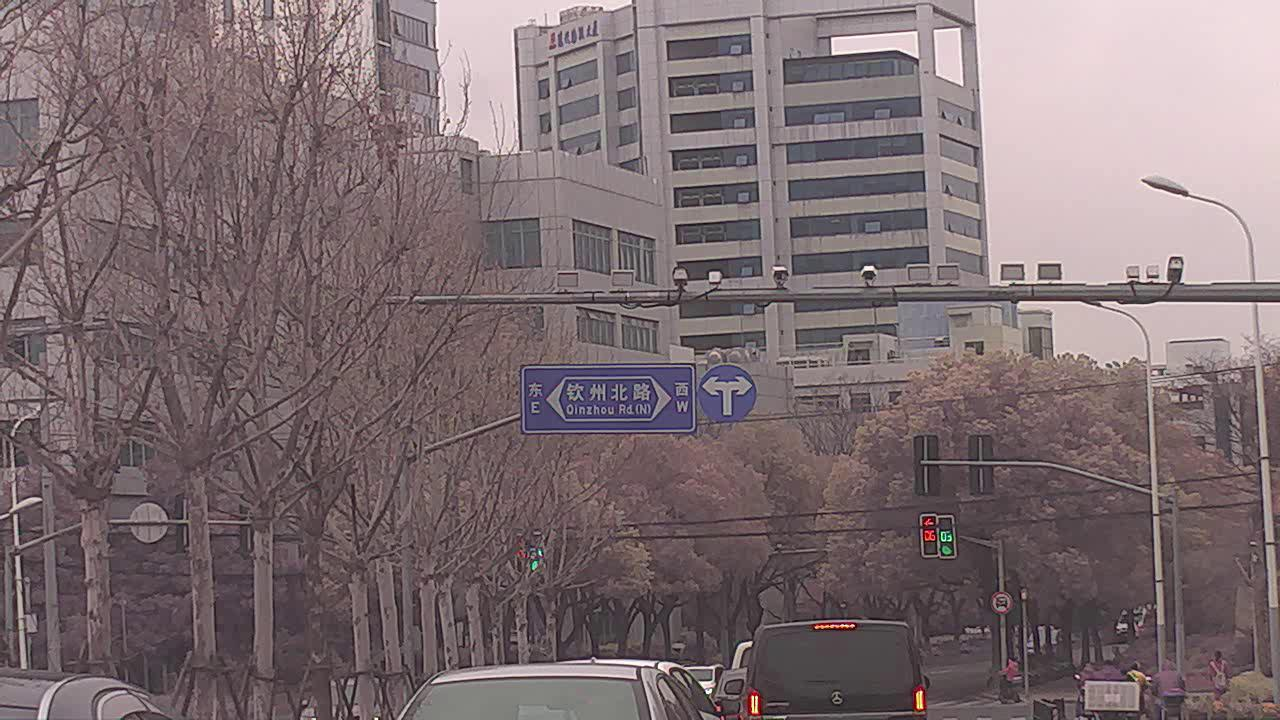traffic_light: (922, 516, 941, 556), (942, 513, 956, 556)
